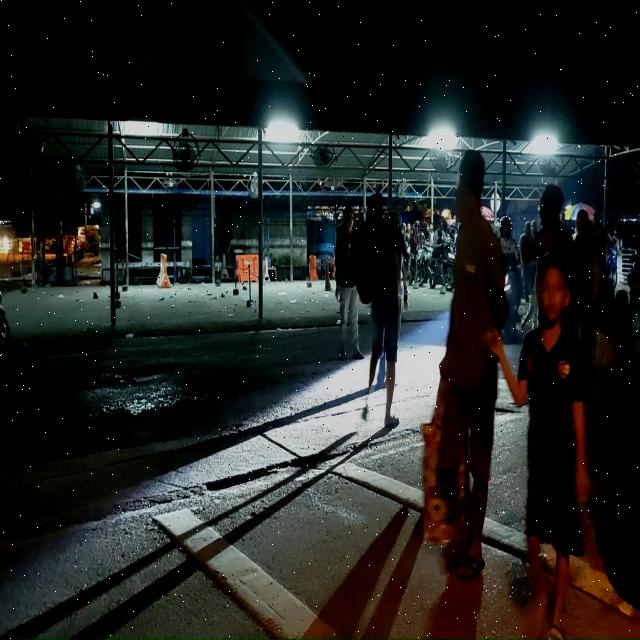Golongan II: (503, 256, 522, 341), (429, 242, 455, 292), (606, 247, 618, 289)
